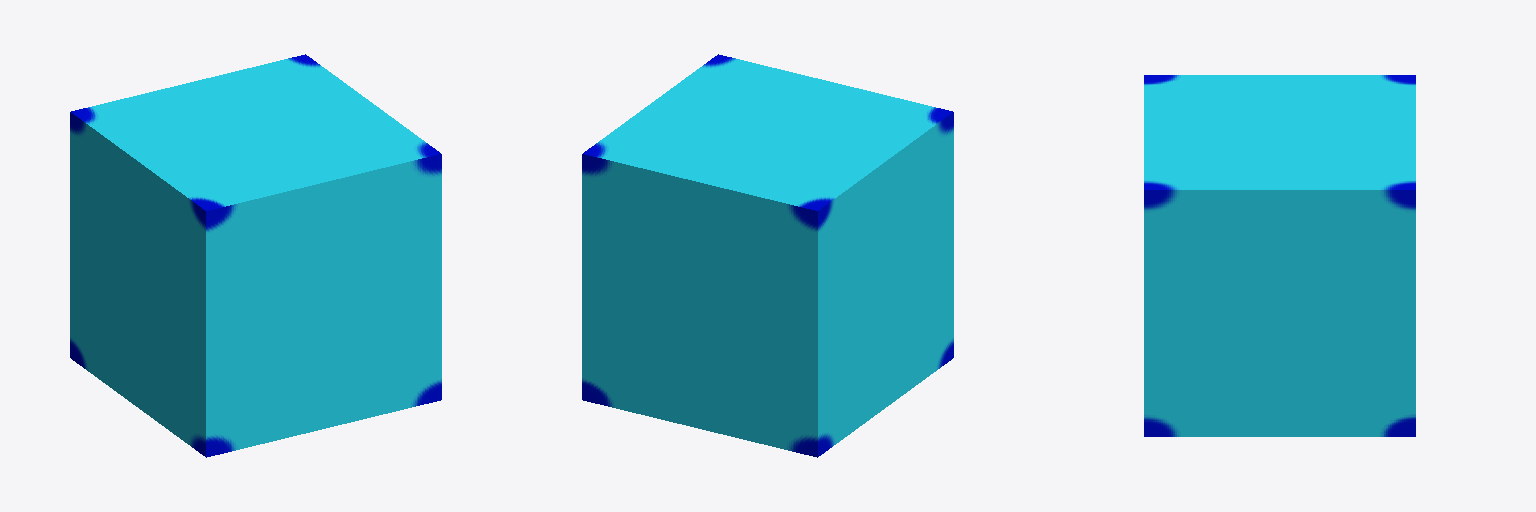
3 views of the same model, side by side, from view 1: azimuth 30°, elevation 25°; view 2: azimuth 150°, elevation 25°; view 3: azimuth 270°, elevation 25° (orthographic).
Parts seen in each view (by area): view 1: Cube; view 2: Cube; view 3: Cube.
Boxes of the visible parts, x1=… form: Cube: x1=70, y1=54, x2=441, y2=457; Cube: x1=582, y1=54, x2=953, y2=457; Cube: x1=1144, y1=75, x2=1415, y2=436.
Bounding box in the file's own units: 30 × 30 × 30.
Materials: 1 (1 with a texture image).